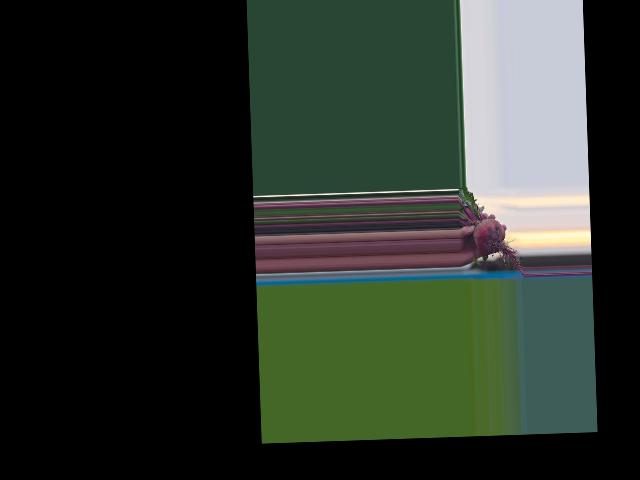beet: (458, 185, 525, 278)
